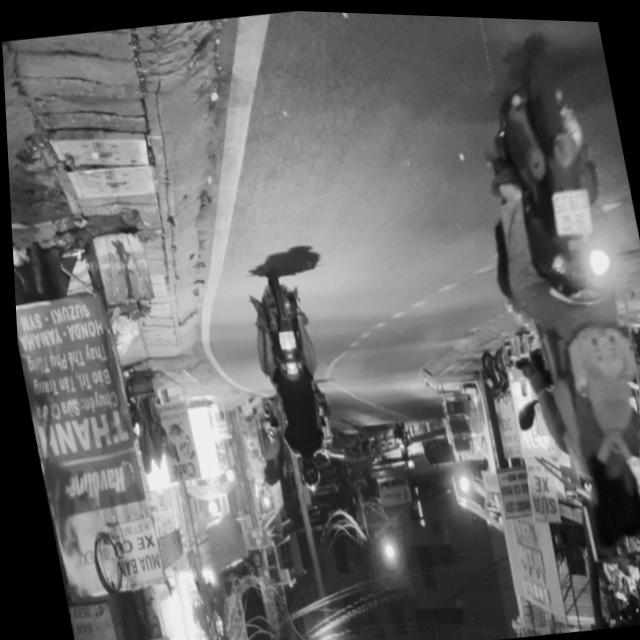helmet: (294, 455, 320, 492)
licenseplate: (451, 25, 640, 560), (239, 267, 342, 496)
motorcyclist: (588, 445, 640, 542)
nohelmet: (549, 185, 595, 235), (275, 329, 294, 350)
